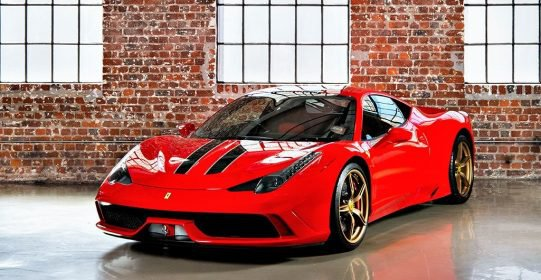car: (95, 86, 476, 249)
